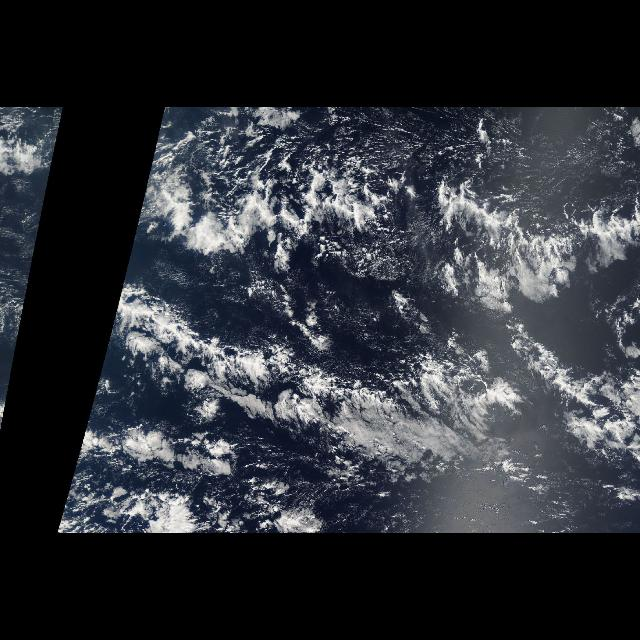Fish: (87, 118, 639, 522)
Sugar: (387, 116, 633, 208)
